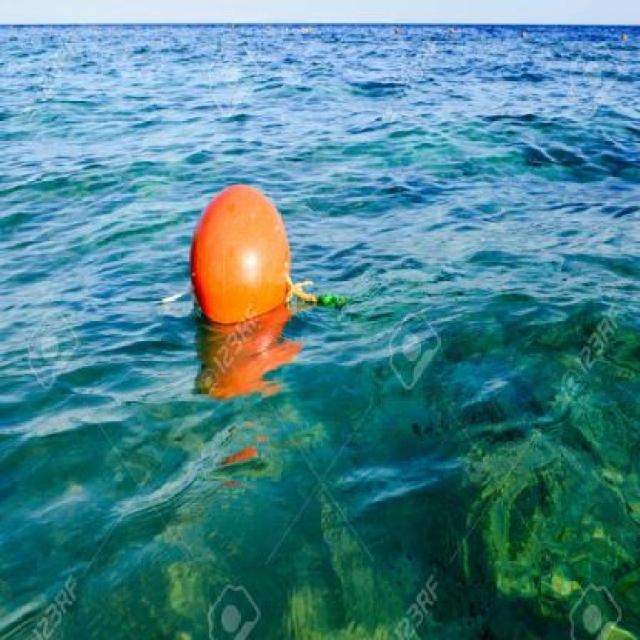a: (181, 159, 316, 339)
